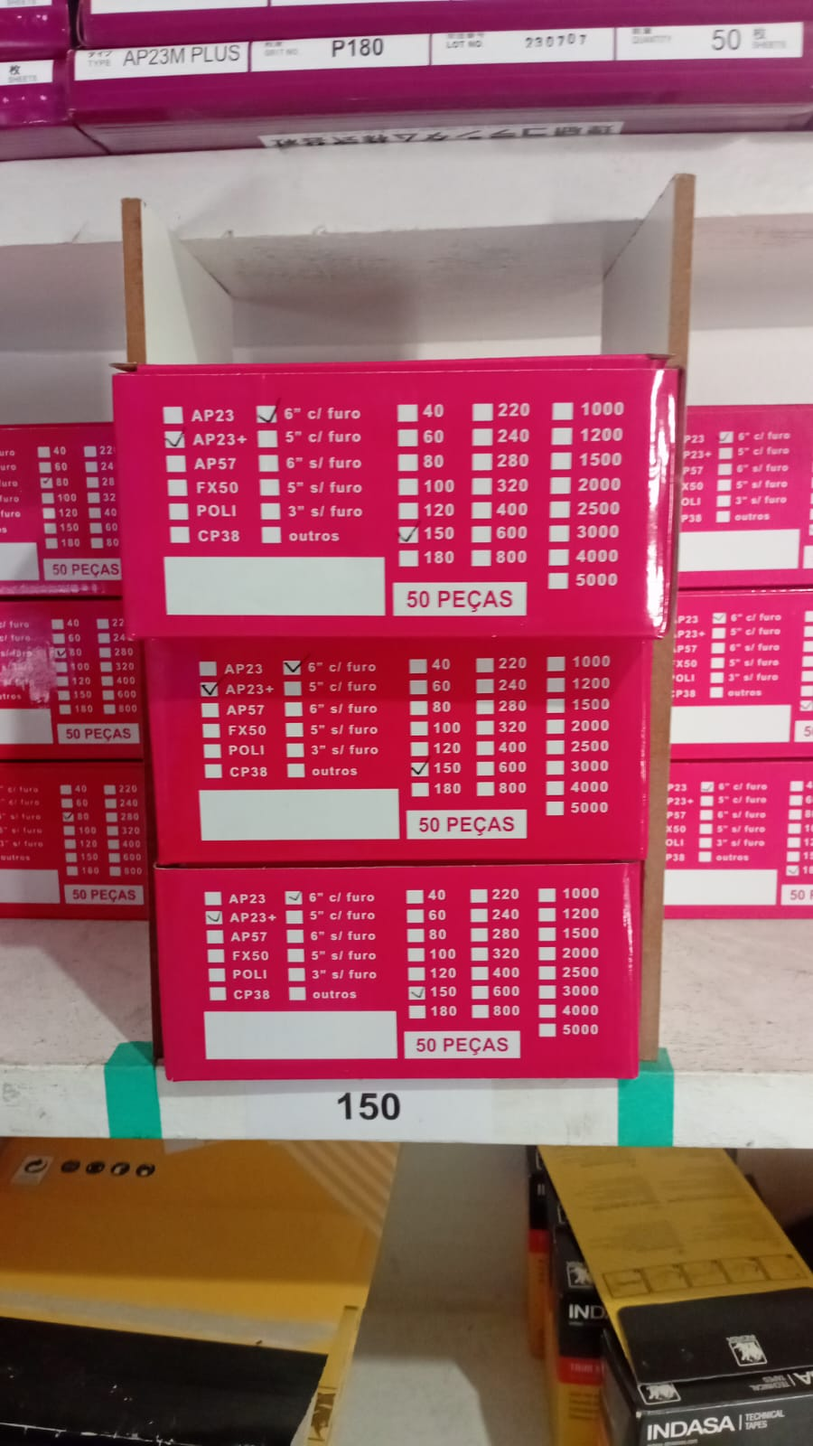objects: (87, 155, 699, 1139)
